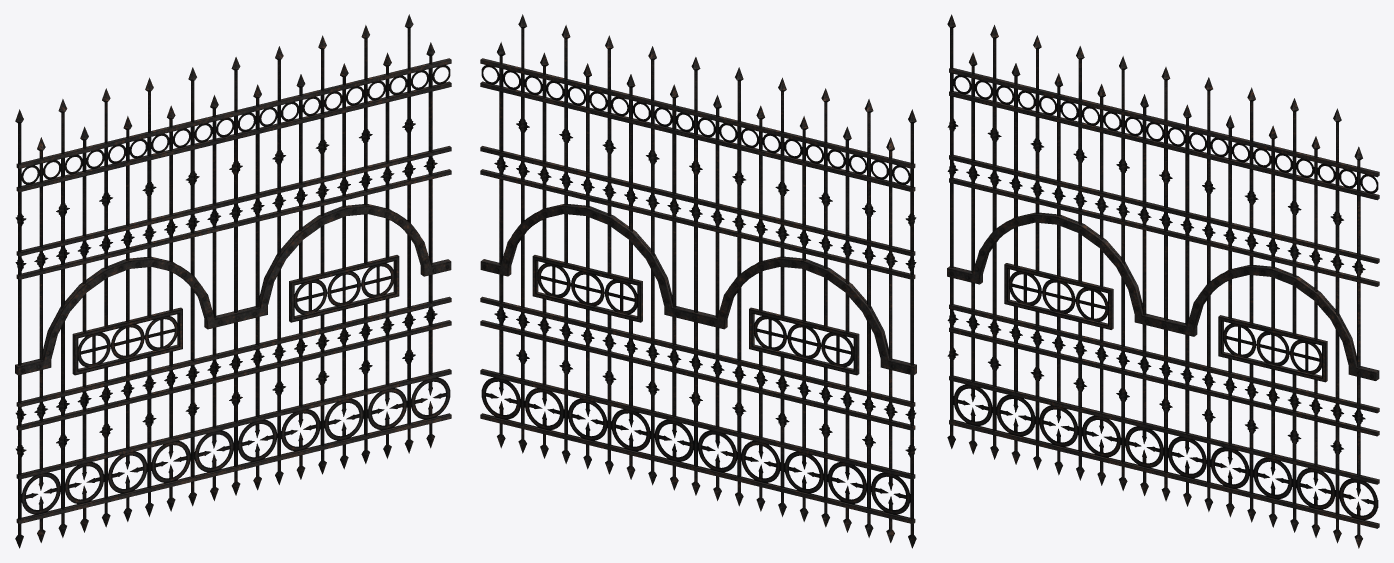
The model's file is Iron Fence.FBX.
3 views of the same model, side by side, from view 1: azimuth 30°, elevation 25°; view 2: azimuth 150°, elevation 25°; view 3: azimuth 330°, elevation 25° (orthographic).
Visible parts, largest first — view 1: Iron Fence; view 2: Iron Fence; view 3: Iron Fence.
Part boxes in pixels (box(x1,y1,x2,y2)): Iron Fence: box(15, 14, 451, 548); Iron Fence: box(480, 14, 916, 548); Iron Fence: box(947, 14, 1379, 548).
Bounding box in the file's own units: 40.24 × 38.85 × 1.71.
2 materials, 2 textured.
